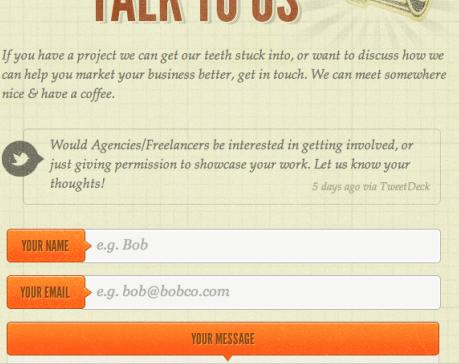button: (6, 321, 441, 356)
field: (82, 228, 442, 264), (83, 275, 442, 311)
field_with_label: (21, 226, 445, 266), (22, 274, 443, 313)
